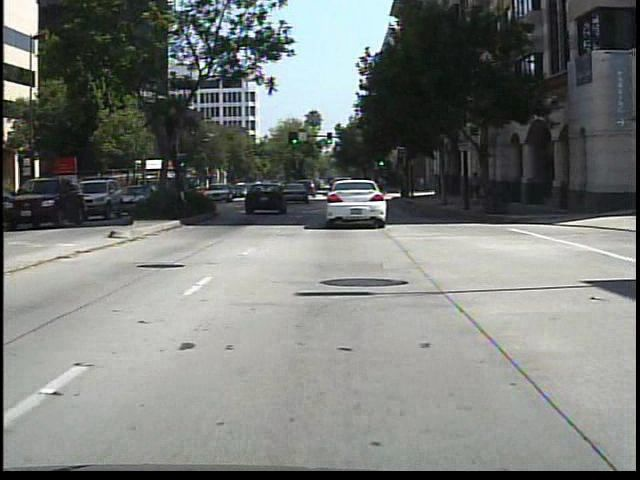person: (468, 167, 486, 209)
